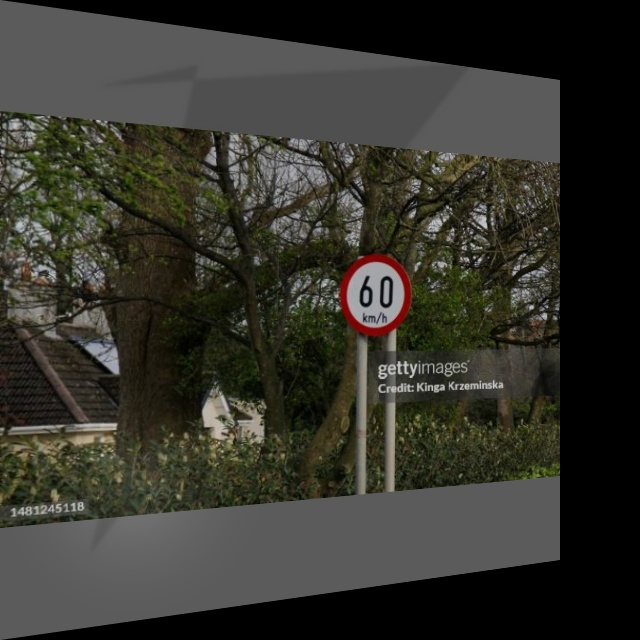Speed_Limit_60: (336, 251, 410, 340)
